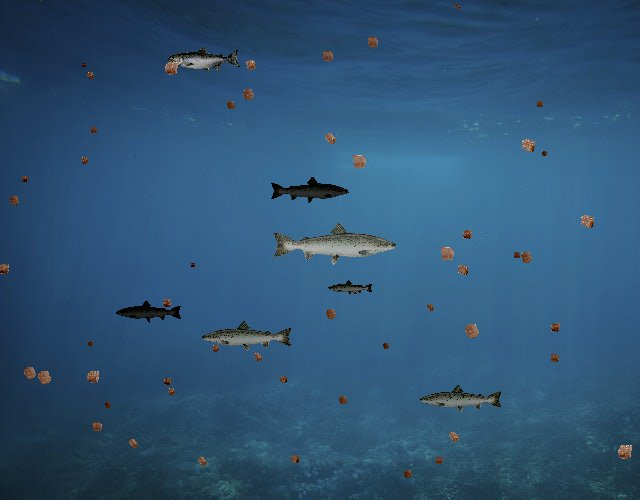Fish: (270, 220, 399, 266), (200, 319, 294, 353), (418, 383, 504, 414), (270, 176, 351, 205), (168, 47, 241, 73), (115, 300, 183, 324), (328, 280, 375, 297)
Pellet: (610, 436, 640, 466), (157, 55, 185, 83), (318, 126, 342, 150), (236, 83, 260, 107), (239, 54, 262, 77), (4, 190, 25, 211), (76, 153, 92, 169), (538, 148, 551, 161), (23, 364, 35, 376)
